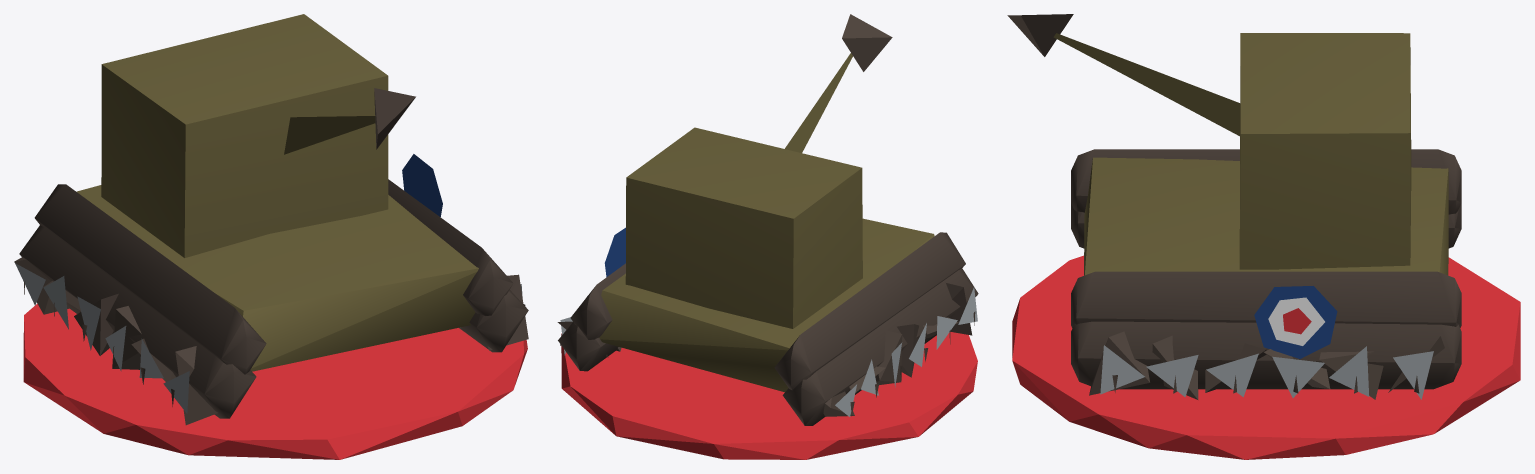
File: united_kingdom_artillery_lod1.glb
3 renders of one model, left to right at view 1: azimuth 30°, elevation 25°; view 2: azimuth 150°, elevation 25°; view 3: azimuth 270°, elevation 25°, orthographic. The views are drawn at different scales.
Visible parts, largest first — view 1: body_hull, base_pedestal; view 2: body_hull, base_pedestal; view 3: body_hull, base_pedestal.
Boxes of the visible parts, x1,y1,x2,y2 form: body_hull: (14, 14, 528, 425); base_pedestal: (23, 303, 527, 459); body_hull: (557, 14, 978, 425); base_pedestal: (561, 332, 977, 459); body_hull: (1007, 14, 1461, 399); base_pedestal: (1012, 255, 1520, 459).
Bounding box in the file's own units: 0.7709 × 0.5717 × 0.7672.
